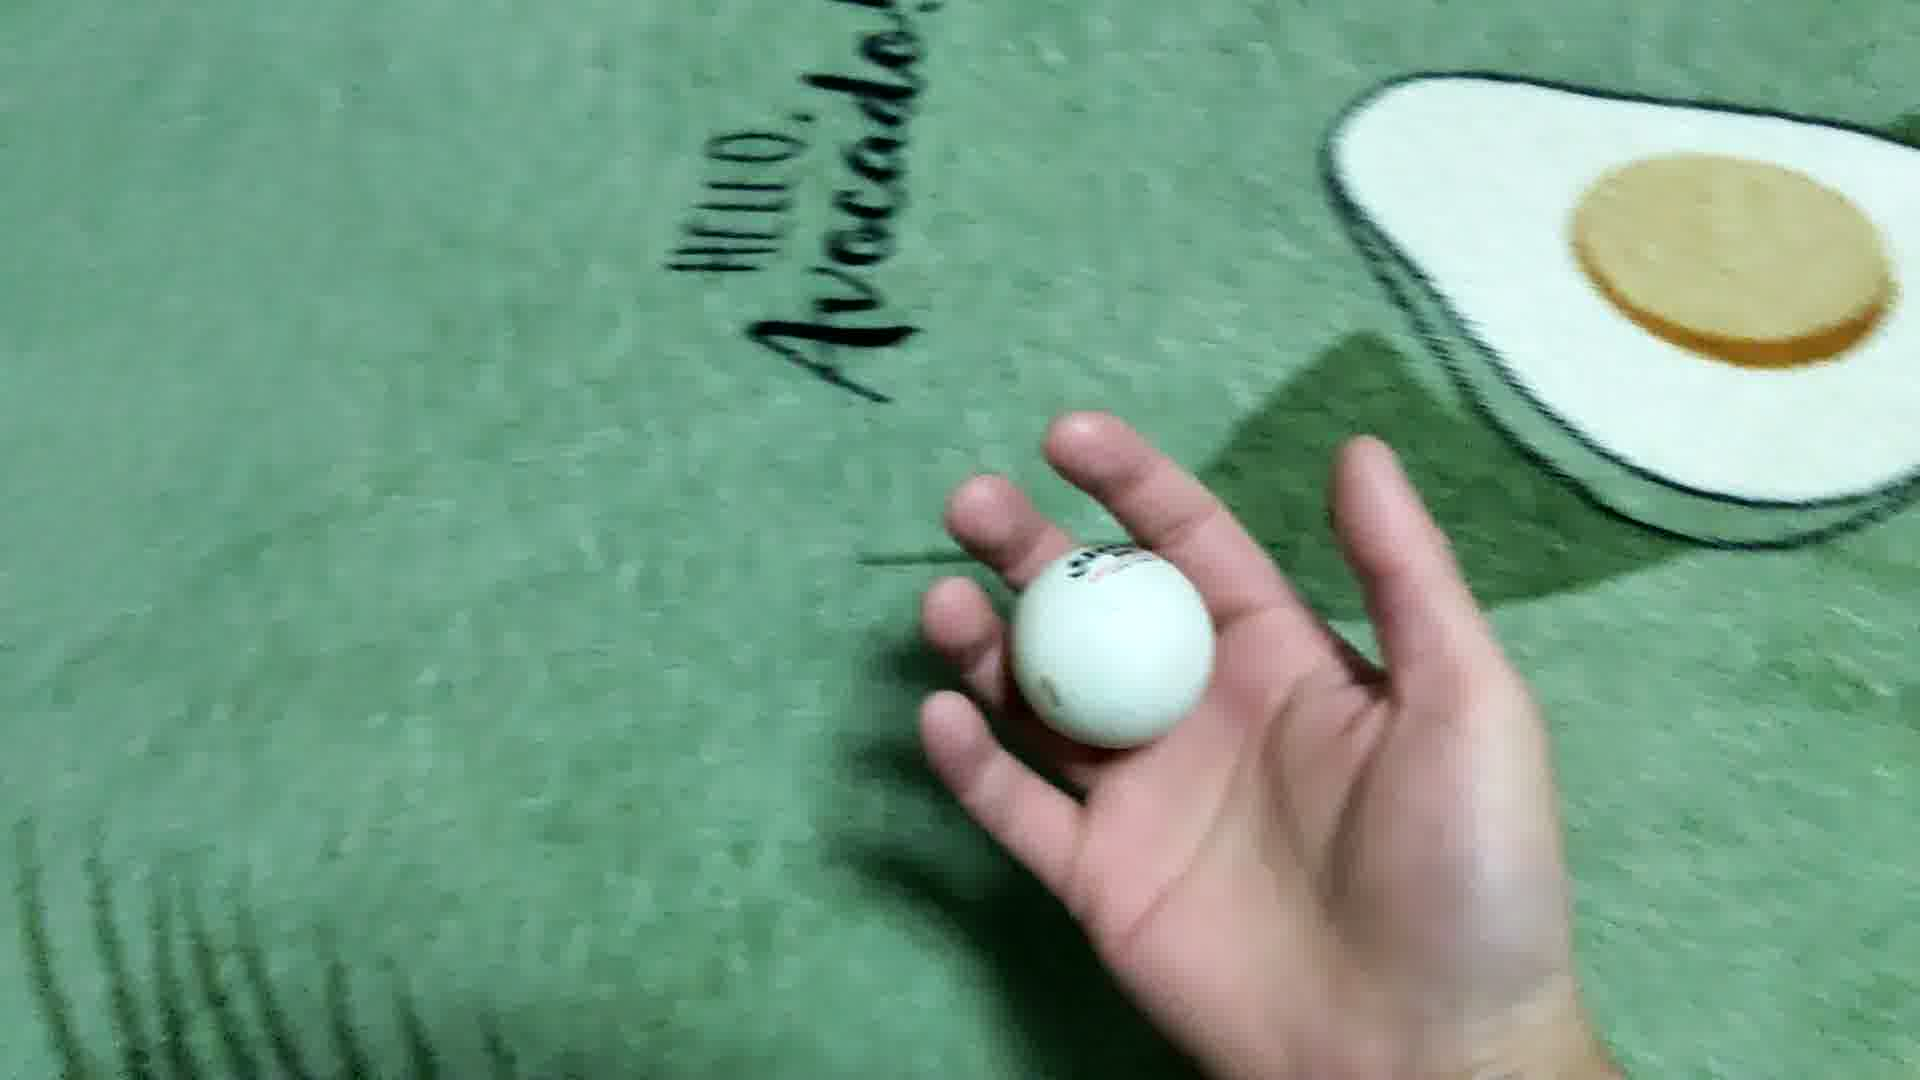Ball: (1014, 549, 1217, 756)
